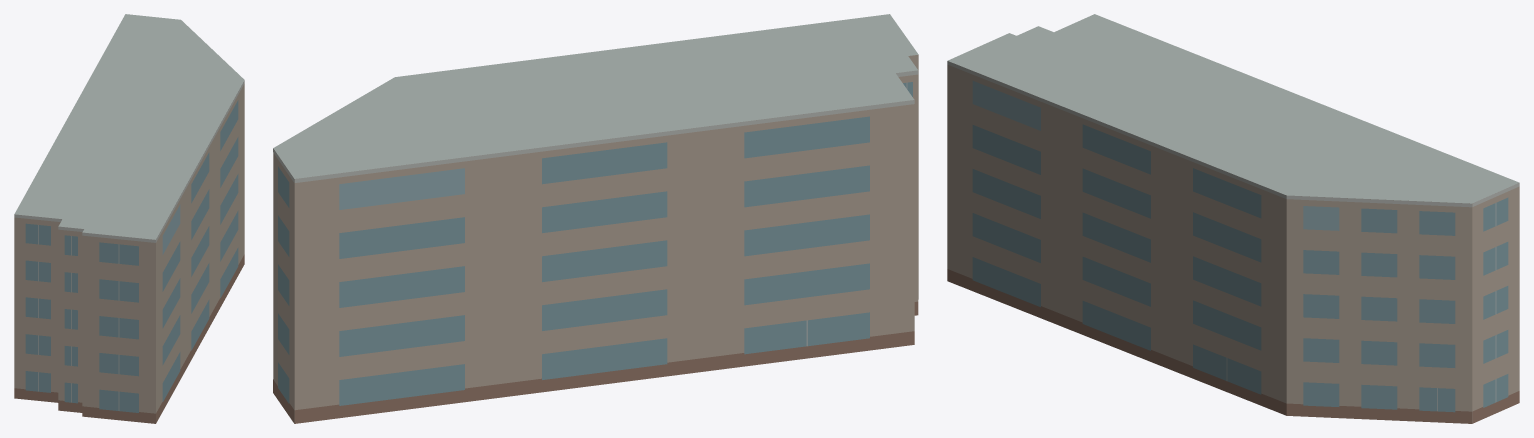
File: survey-upis-32756129.glb
3 views of the same model, side by side, from view 1: azimuth 30°, elevation 25°; view 2: azimuth 150°, elevation 25°; view 3: azimuth 270°, elevation 25° (orthographic). The views are drawn at different scales.
Visible parts, largest first — view 1: survey-upis-32756129.tmp; view 2: survey-upis-32756129.tmp; view 3: survey-upis-32756129.tmp.
Boxes of the visible parts, x1,y1,x2,y2 form: survey-upis-32756129.tmp: (14,14,244,423); survey-upis-32756129.tmp: (273,14,918,423); survey-upis-32756129.tmp: (947,14,1519,423).
Bounding box in the file's own units: 26.57 × 14.4 × 33.9.
